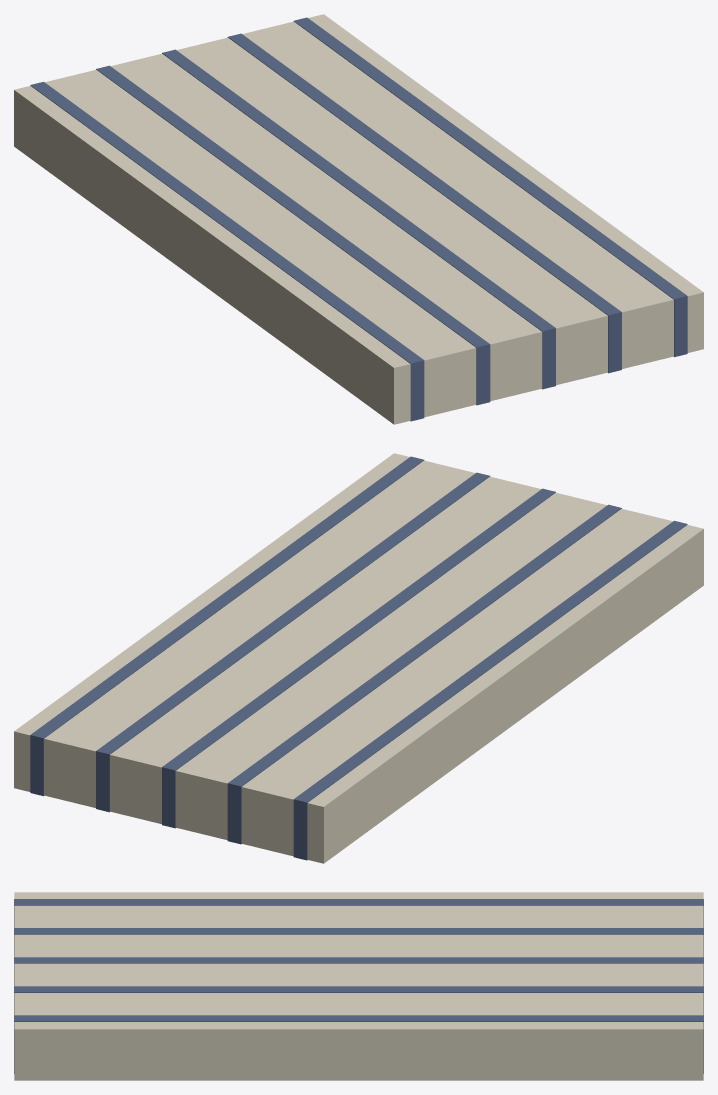
Rendered from item-mattress.glb.
3 renders of one model, top to bottom at view 1: azimuth 30°, elevation 25°; view 2: azimuth 150°, elevation 25°; view 3: azimuth 270°, elevation 25°, orthographic. The views are drawn at different scales.
Visible parts, largest first — view 1: #d8d2c0, #5a6a8a_noshadow; view 2: #d8d2c0, #5a6a8a_noshadow; view 3: #d8d2c0, #5a6a8a_noshadow.
Part boxes in pixels (x1,y1,x2,y2): #d8d2c0: (14, 14, 703, 424); #5a6a8a_noshadow: (30, 17, 687, 421); #d8d2c0: (14, 453, 703, 863); #5a6a8a_noshadow: (30, 456, 687, 860); #d8d2c0: (14, 892, 703, 1080); #5a6a8a_noshadow: (14, 899, 703, 1073).
Size of the model in its own units: 0.8 by 0.143 by 1.7.
